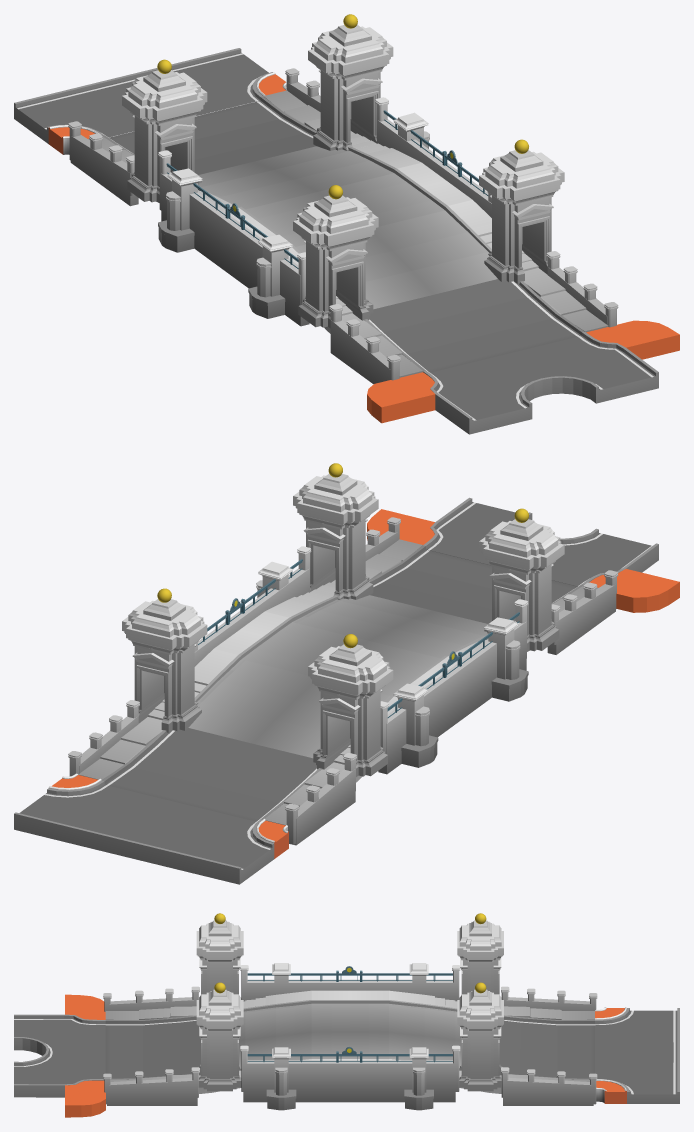
Rendered from FullBridge_NoMarble.fbx.
The picture shows the model from 3 angles, top to bottom: view 1: azimuth 30°, elevation 25°; view 2: azimuth 150°, elevation 25°; view 3: azimuth 270°, elevation 25°; orthographic projection. The views are drawn at different scales.
Parts seen in each view (by area): view 1: Cube.082; view 2: Cube.082; view 3: Cube.082.
Boxes of the visible parts, <box> form: Cube.082: <box>14,14,679,434</box>; Cube.082: <box>14,463,679,884</box>; Cube.082: <box>14,913,679,1117</box>.
Bounding box in the file's own units: 944 × 459 × 2397.
